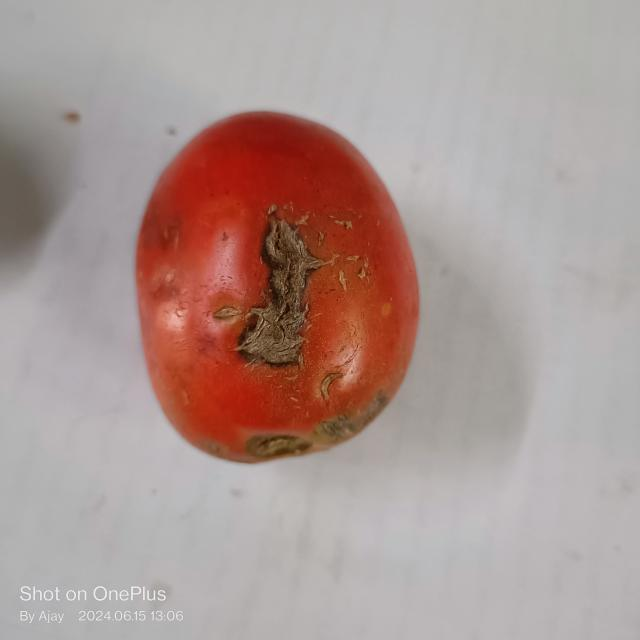Bacterial_Spot: (239, 204, 316, 374)
